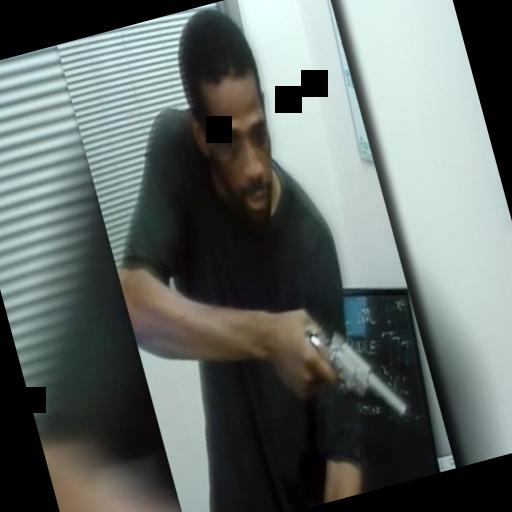Handgun: (293, 300, 409, 440)
